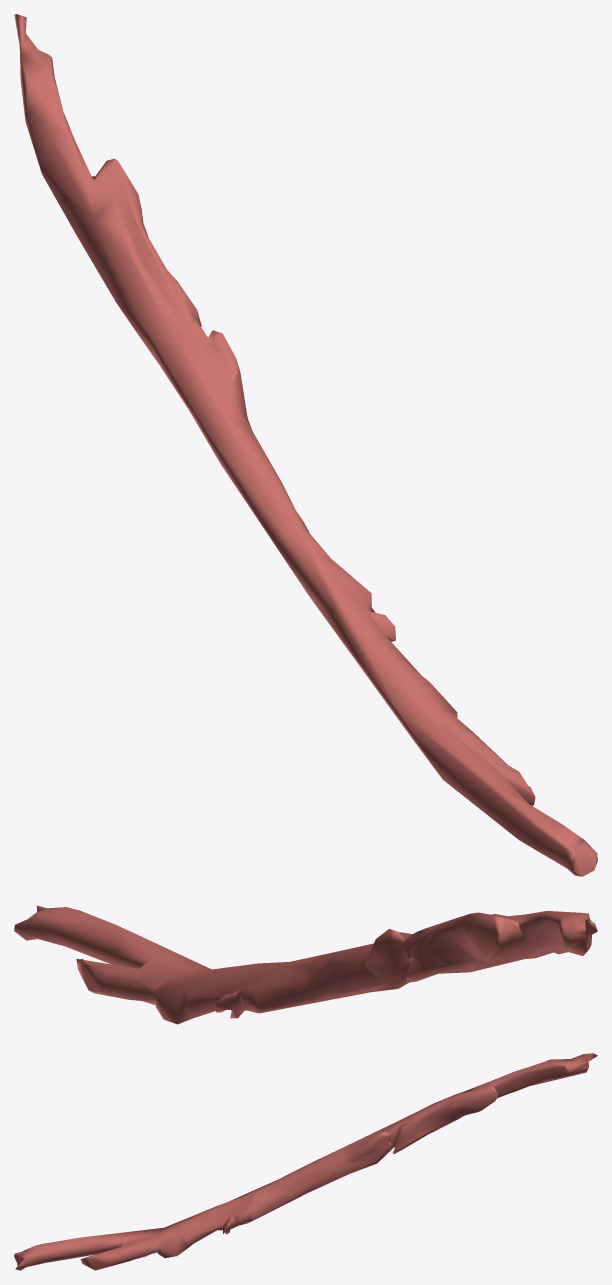
The picture shows the model from 3 angles, top to bottom: view 1: azimuth 30°, elevation 25°; view 2: azimuth 210°, elevation 25°; view 3: azimuth 270°, elevation 25°; orthographic projection. The views are drawn at different scales.
Visible parts, largest first — view 1: 右侧颈棘肌; view 2: 右侧颈棘肌; view 3: 右侧颈棘肌.
Part boxes in pixels (x1,y1,x2,y2): 右侧颈棘肌: [14, 14, 597, 876]; 右侧颈棘肌: [14, 905, 597, 1024]; 右侧颈棘肌: [14, 1053, 597, 1270].
Size of the model in its own units: 0.0117 by 0.0646 by 0.1558.
